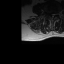CCS_normal: (52, 12, 53, 20)
LFS_severe_stenosis: (55, 12, 57, 16)
LLS_stenosis: (54, 12, 55, 17)
RFS_severe_stenosis: (49, 11, 50, 16)
RLS_severe_stenosis: (50, 12, 52, 16)
